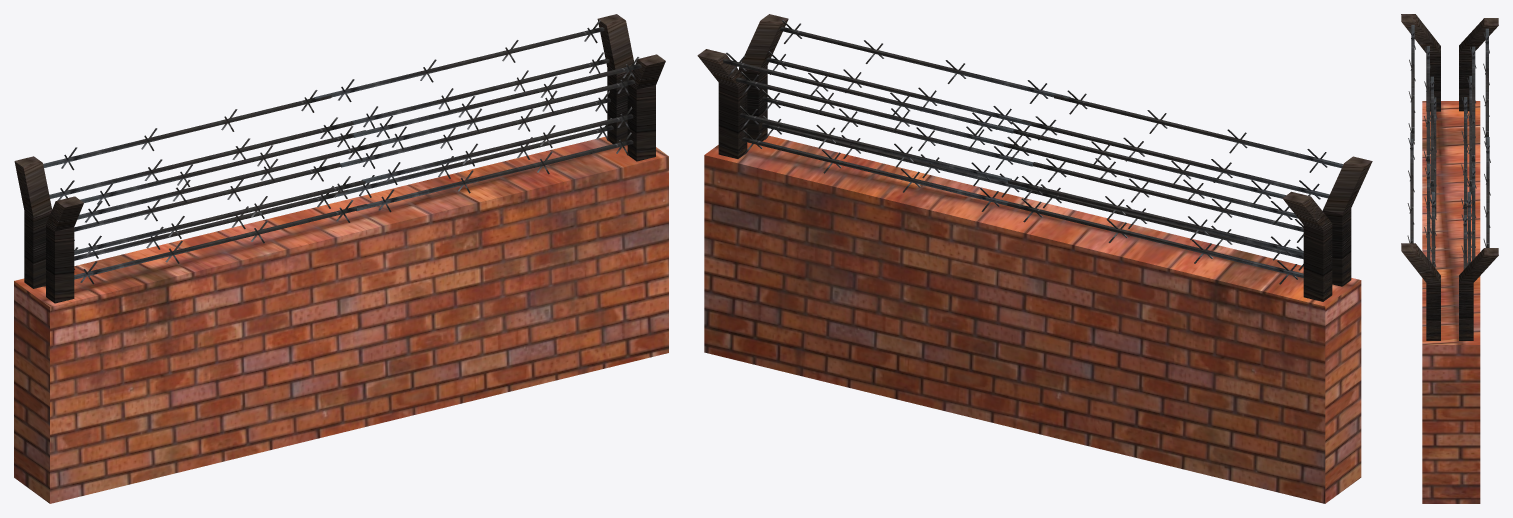
Rendered from barbed_wall.fbx.
The picture shows the model from 3 angles, left to right: view 1: azimuth 30°, elevation 25°; view 2: azimuth 150°, elevation 25°; view 3: azimuth 270°, elevation 25°; orthographic projection. The views are drawn at different scales.
Visible parts, largest first — view 1: barbed_wall; view 2: barbed_wall; view 3: barbed_wall.
Boxes of the visible parts, x1,y1,x2,y2 form: barbed_wall: [14, 14, 668, 503]; barbed_wall: [697, 14, 1372, 503]; barbed_wall: [1401, 14, 1498, 503].
Size of the model in its own units: 658 by 315 by 111.
